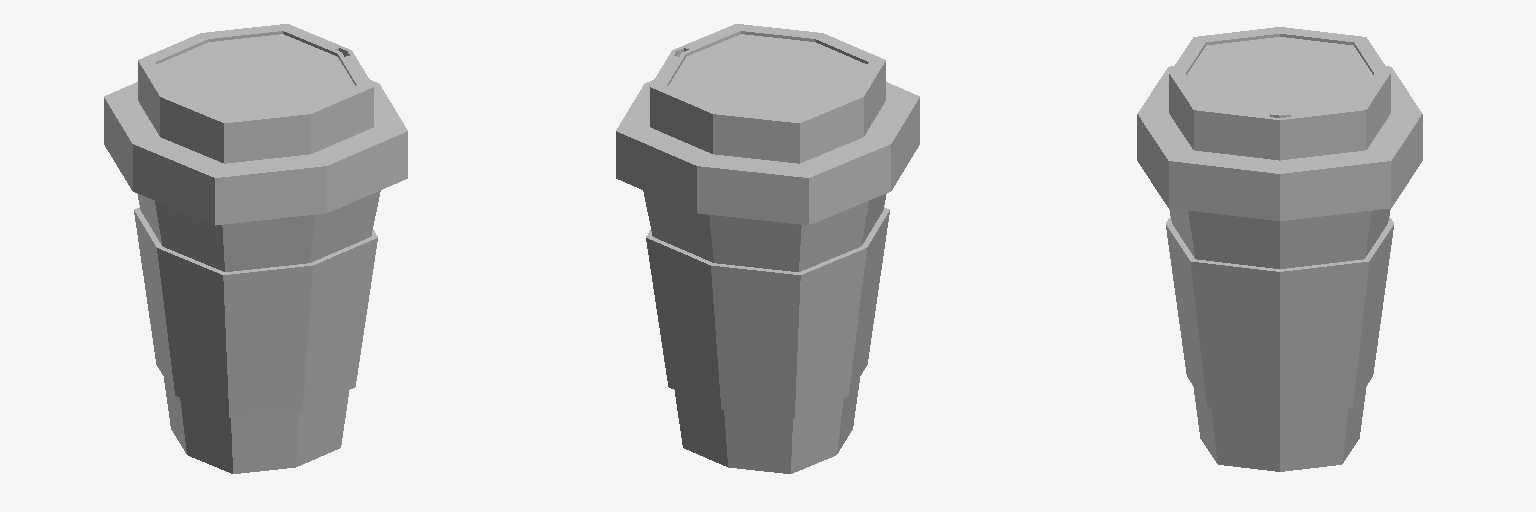
File: coffeecup.obj
3 renders of one model, left to right at view 1: azimuth 30°, elevation 25°; view 2: azimuth 150°, elevation 25°; view 3: azimuth 270°, elevation 25°, orthographic.
Parts seen in each view (by area): view 1: Cube_Cube.022; view 2: Cube_Cube.022; view 3: Cube_Cube.022.
Part boxes in pixels (bbox=[...]): Cube_Cube.022: bbox=[104, 24, 407, 473]; Cube_Cube.022: bbox=[616, 24, 919, 473]; Cube_Cube.022: bbox=[1137, 27, 1422, 471].
Bounding box in the file's own units: 0.6813 × 0.9619 × 0.6813.